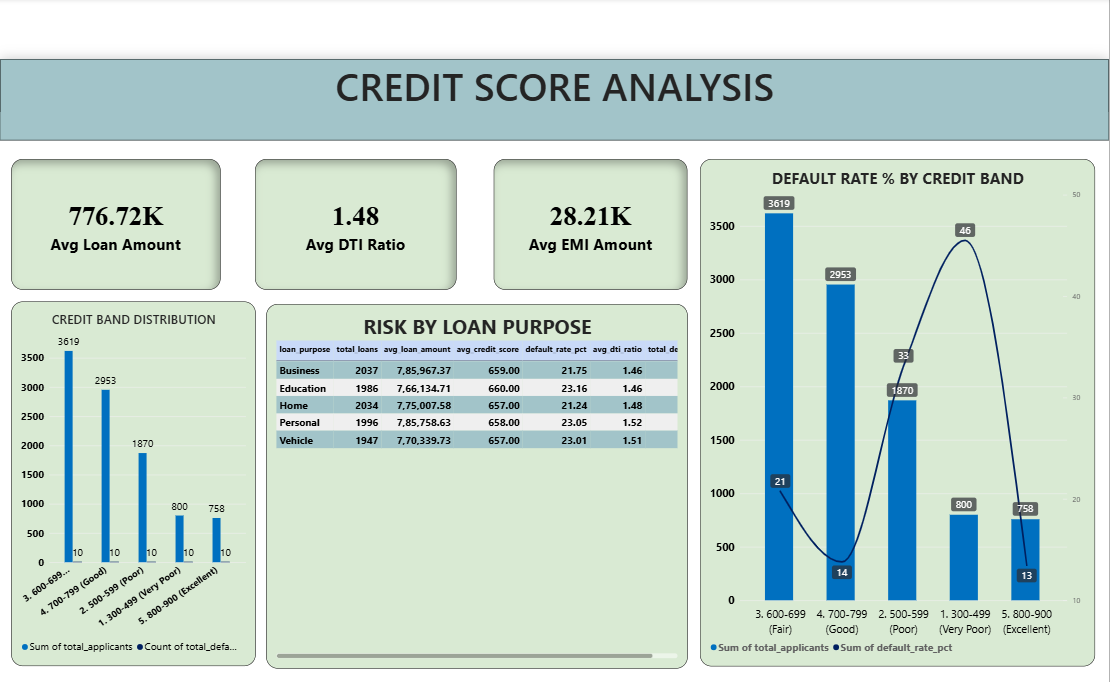

Layout of this report page (visuals, bound fields, positions):
{"tool":"powerbi","page":{"name":"Credit Score Analysis","canvas":[1920,1080],"ordinal":2},"visuals":[{"type":"shape","title":"CREDIT SCORE ANALYSIS","box":[0,0,1920,140.8],"z":0},{"type":"card","fields":{"Values":["Measure Table.Avg Loan Amount"]},"box":[18.6,173,362.1,226.3],"z":1000},{"type":"card","fields":{"Values":["Measure Table.Avg DTI Ratio"]},"box":[441.9,173,348.8,226.3],"z":2000},{"type":"card","fields":{"Values":["Measure Table.Avg EMI Amount"]},"box":[854.6,173,335.4,226.3],"z":3000},{"type":"clusteredColumnChart","title":"CREDIT BAND DISTRIBUTION","fields":{"Category":["vw_credit_band_analysis.credit_band"],"Y":["Sum(vw_credit_band_analysis.total_applicants)","CountNonNull(vw_city_risk.total_defaults)"]},"box":[18.6,420.6,423.3,631],"z":4000},{"type":"lineClusteredColumnComboChart","title":"DEFAULT RATE % BY CREDIT BAND","fields":{"Category":["vw_credit_band_analysis.credit_band"],"Y":["Sum(vw_credit_band_analysis.total_applicants)"],"Y2":["Sum(vw_credit_band_analysis.default_rate_pct)"]},"box":[1211.3,173,684.2,878.6],"z":5000},{"type":"tableEx","title":"RISK BY LOAN PURPOSE","fields":{"Values":["vw_loan_purpose_analysis.loan_purpose","vw_loan_purpose_analysis.total_loans","vw_loan_purpose_analysis.avg_loan_amount","vw_loan_purpose_analysis.avg_credit_score","vw_loan_purpose_analysis.default_rate_pct","vw_loan_purpose_analysis.avg_dti_ratio","vw_loan_purpose_analysis.total_defaults"]},"box":[460.6,423.3,729.5,631],"z":6000}]}

Visuals, with their boxes on the page's 1920x1080 design canvas (x1, y1, x2, y2). These are canvas units, not pixel positions in the 1110x682 screenshot, which may show the page scaled, cropped or inside an application window:
"CREDIT SCORE ANALYSIS" shape: detection(0, 0, 1920, 141)
card - Measure Table.Avg Loan Amount: detection(19, 173, 381, 399)
card - Measure Table.Avg DTI Ratio: detection(442, 173, 791, 399)
card - Measure Table.Avg EMI Amount: detection(855, 173, 1190, 399)
"CREDIT BAND DISTRIBUTION" clusteredColumnChart: detection(19, 421, 442, 1052)
"DEFAULT RATE % BY CREDIT BAND" lineClusteredColumnComboChart: detection(1211, 173, 1896, 1052)
"RISK BY LOAN PURPOSE" tableEx: detection(461, 423, 1190, 1054)
